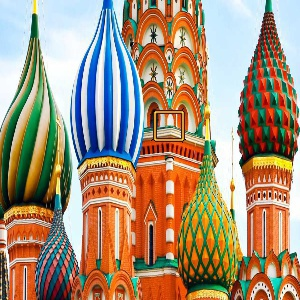square: (152, 110, 186, 143)
